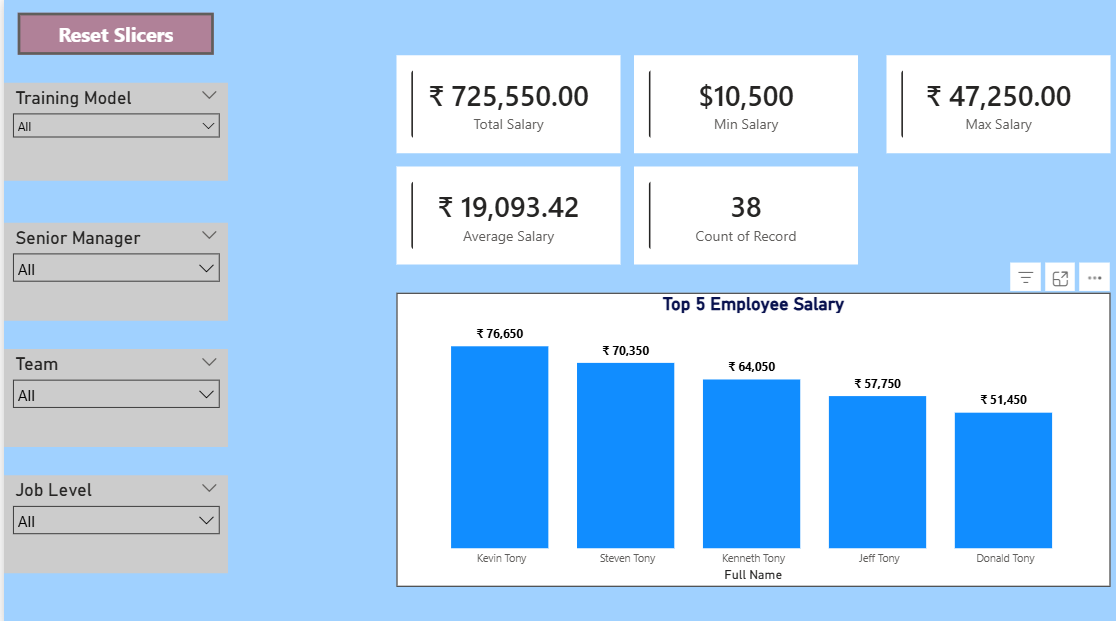

The page's visual inventory and layout, read from the dashboard file:
{"tool":"powerbi","page":{"name":"Page 2","canvas":[1280,720],"ordinal":1},"visuals":[{"type":"cardVisual","fields":{"Data":["Data.Total Salary"]},"box":[448,64,256,112],"z":0},{"type":"cardVisual","fields":{"Data":["Data.Min Salary"]},"box":[720,64,256,112],"z":1000},{"type":"cardVisual","fields":{"Data":["Data.Max Salary"]},"box":[1008,64,256,112],"z":2000},{"type":"cardVisual","fields":{"Data":["Data.Average Salary"]},"box":[448,192,256,112],"z":3000},{"type":"slicer","fields":{"Values":["Data.Model"]},"box":[0,96,256,112],"z":4000},{"type":"slicer","fields":{"Values":["Data.Senior Manager"]},"box":[0,256,256,112],"z":5000},{"type":"slicer","fields":{"Values":["Data.Team"]},"box":[0,400,256,112],"z":6000},{"type":"slicer","fields":{"Values":["Data.Job Level"]},"box":[0,544,256,112],"z":7000},{"type":"actionButton","box":[16,16,224,48],"z":8000},{"type":"cardVisual","fields":{"Data":["Data.Count of Record"]},"box":[720,192,256,112],"z":9000},{"type":"clusteredColumnChart","title":"Top 5 Employee Salary","fields":{"Y":["Sum(Data.Salary)"],"Category":["Data.Full Name"]},"box":[448,336,816,336],"z":10000},{"type":"actionButton","box":[0,656,96,32],"z":10001}]}

Visuals, with their boxes in screenshot pixels (x1, y1, x2, y2), scaled from the page's 1280x720 canvas onto the 1116x621 screenshot:
cardVisual - Data.Total Salary: 391:55:614:152
cardVisual - Data.Min Salary: 628:55:851:152
cardVisual - Data.Max Salary: 879:55:1102:152
cardVisual - Data.Average Salary: 391:166:614:262
slicer - Data.Model: 0:83:223:179
slicer - Data.Senior Manager: 0:221:223:317
slicer - Data.Team: 0:345:223:442
slicer - Data.Job Level: 0:469:223:566
actionButton: 14:14:209:55
cardVisual - Data.Count of Record: 628:166:851:262
"Top 5 Employee Salary" clusteredColumnChart: 391:290:1102:580
actionButton: 0:566:84:593
